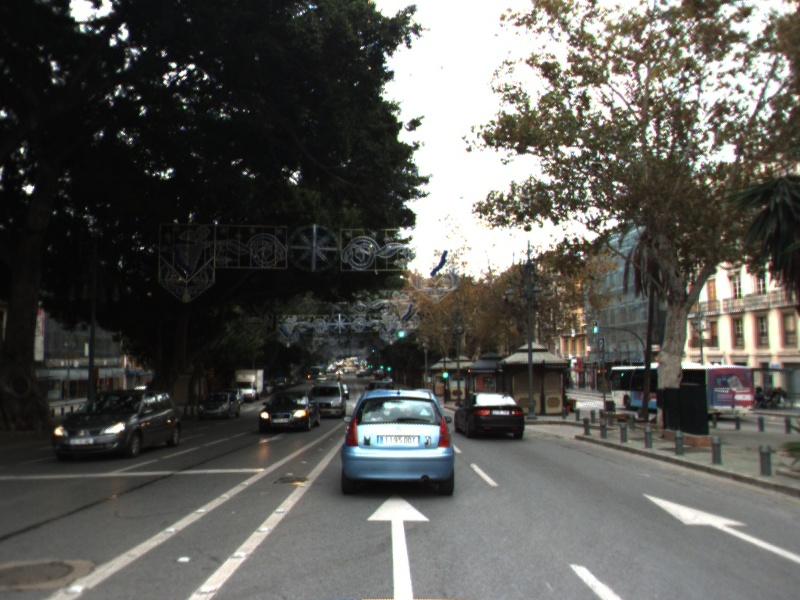STRAIGHT: (637, 489, 800, 563), (363, 490, 434, 600)
